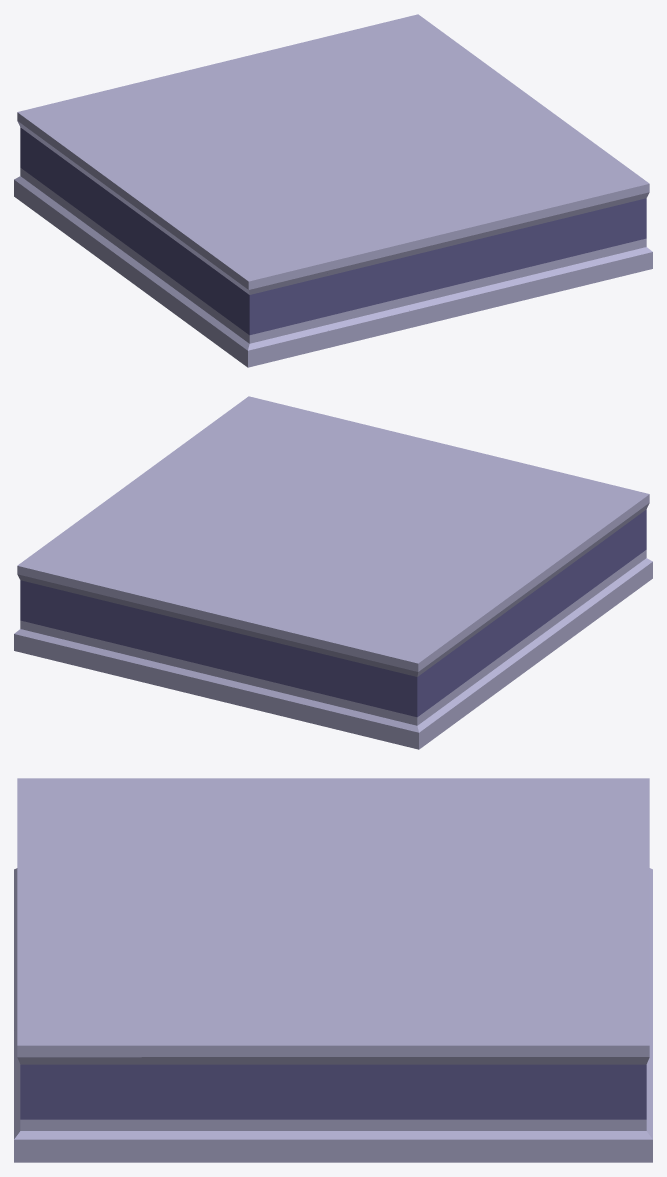
Rendered from Level01-Floor.fbx.
3 renders of one model, top to bottom at view 1: azimuth 30°, elevation 25°; view 2: azimuth 150°, elevation 25°; view 3: azimuth 270°, elevation 25°, orthographic. The views are drawn at different scales.
Parts seen in each view (by area): view 1: mergedBlocks; view 2: mergedBlocks; view 3: mergedBlocks.
Part boxes in pixels (x1,y1,x2,y2): mergedBlocks: [14, 14, 652, 367]; mergedBlocks: [14, 396, 652, 749]; mergedBlocks: [14, 778, 652, 1162].
Bounding box in the file's own units: 50 × 10 × 50.
